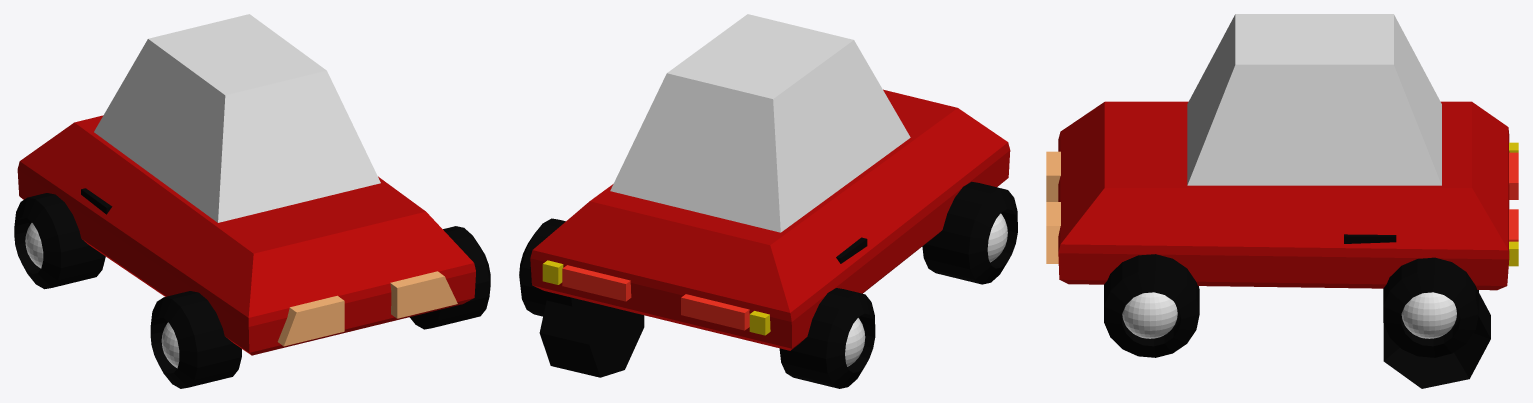
File: otherCars.fbx
3 views of the same model, side by side, from view 1: azimuth 30°, elevation 25°; view 2: azimuth 150°, elevation 25°; view 3: azimuth 270°, elevation 25° (orthographic). The views are drawn at different scales.
Parts seen in each view (by area): view 1: Cube.001, Cube, Cylinder.004, Cylinder.003, Cylinder, Cube.003, Cube.002, Sphere.002, Sphere.003; view 2: Cube.001, Cube, Cylinder.004, Cylinder.001, Cylinder.003, Cylinder.002, Cube.005, Cube.004, Sphere.003, Sphere.002, Cube.007, Cube.006; view 3: Cube.001, Cube, Cylinder, Cylinder.002, Cylinder.001, Sphere, Sphere.001, Cube.002, Cube.003, Cube.008, Cube.004.
Boxes of the visible parts, x1,y1,x2,y2 form: Cube.001: [17, 115, 475, 355]; Cube: [94, 14, 380, 222]; Cylinder.004: [150, 291, 241, 388]; Cylinder.003: [14, 193, 105, 289]; Cylinder: [409, 226, 490, 329]; Cube.003: [277, 295, 344, 346]; Cube.002: [390, 271, 457, 318]; Sphere.002: [25, 223, 43, 268]; Sphere.003: [161, 322, 179, 368]; Cube.001: [530, 89, 1010, 350]; Cube: [610, 14, 910, 232]; Cylinder.004: [922, 181, 1017, 284]; Cylinder.001: [539, 298, 644, 377]; Cylinder.003: [779, 288, 875, 388]; Cylinder.002: [519, 218, 573, 316]; Cube.005: [562, 265, 631, 301]; Cube.004: [681, 294, 749, 330]; Sphere.003: [987, 213, 1007, 262]; Sphere.002: [845, 318, 865, 366]; Cube.007: [749, 311, 770, 335]; Cube.006: [542, 260, 563, 284]; Cube.001: [1058, 101, 1509, 290]; Cube: [1187, 14, 1441, 185]; Cylinder: [1104, 254, 1199, 357]; Cylinder.002: [1383, 257, 1478, 357]; Cylinder.001: [1383, 293, 1490, 388]; Sphere: [1122, 292, 1177, 338]; Sphere.001: [1401, 292, 1456, 338]; Cube.002: [1046, 202, 1060, 263]; Cube.003: [1046, 151, 1060, 201]; Cube.008: [1344, 234, 1396, 243]; Cube.004: [1509, 152, 1518, 199].
Bounding box in the file's own units: 373 × 321 × 478.
